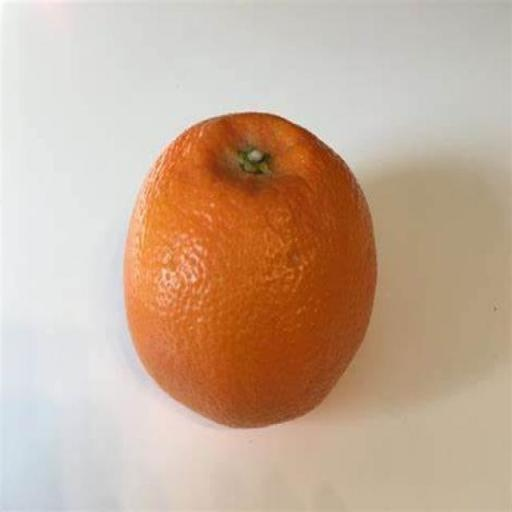fruit: (124, 114, 375, 427)
